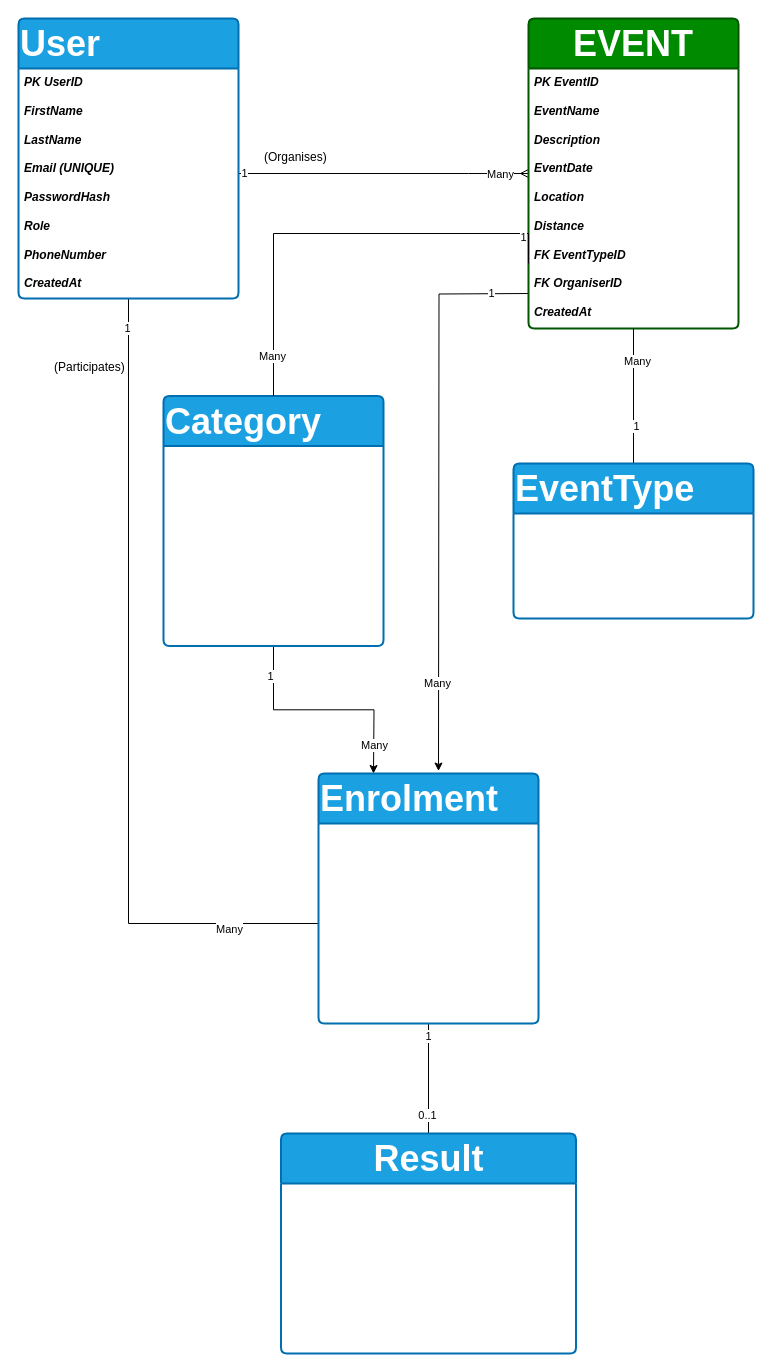
Image size: 771x1371. Some labels were removed from this diagram. The box of each missing label's shape, as (x1, y1, x2, y2) in pixels:
PK CategoryID FK EventID CategoryName Description MinimumAge MaximumAge: (163, 446, 383, 646)
PK EnrolmentID FK ParticipantID FK EventID FK CategoryID EnrolmentDate Status: (318, 823, 538, 1023)
PK EventTypeID TypeName Description: (513, 513, 753, 618)
PK ResultID FK EnrolmentID FinishTime FinishingPosition RecordedAt: (280, 1183, 576, 1353)
